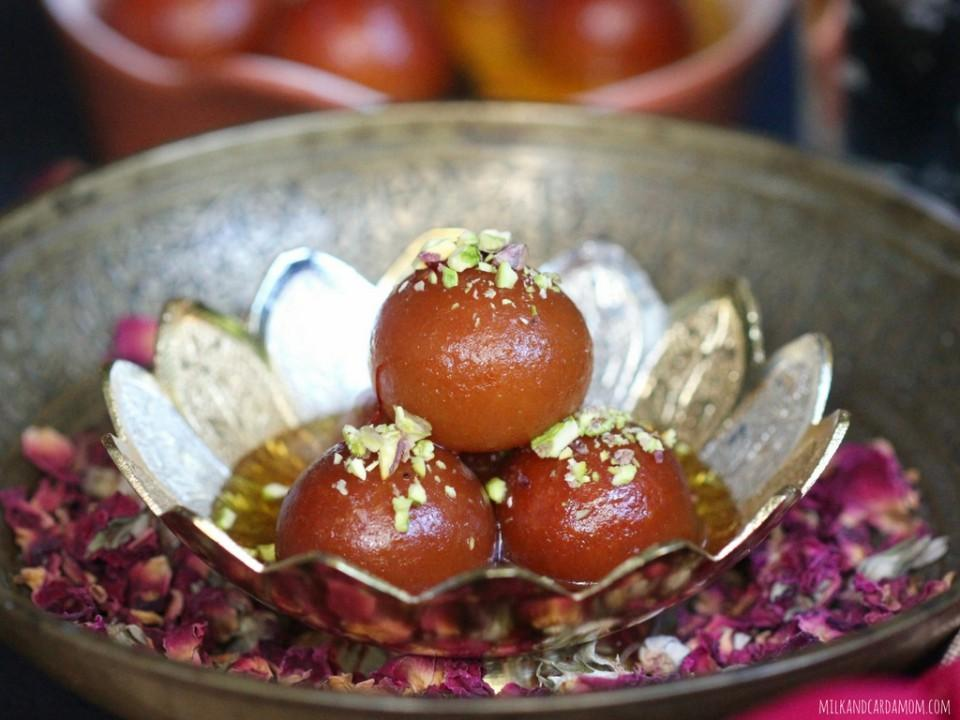GulabJamun: (370, 231, 593, 454), (278, 425, 499, 597), (497, 411, 702, 594)
